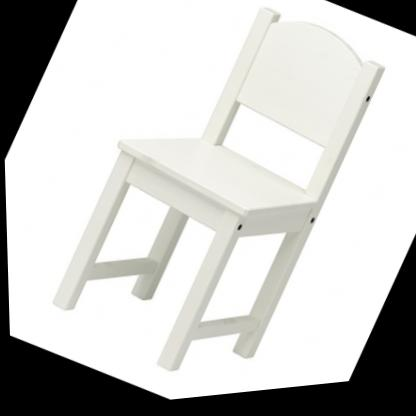Chair: (29, 0, 402, 414)
